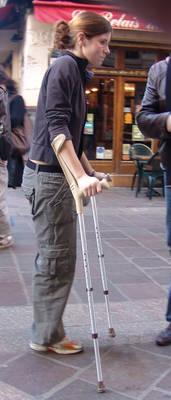crutches: (22, 12, 117, 392)
